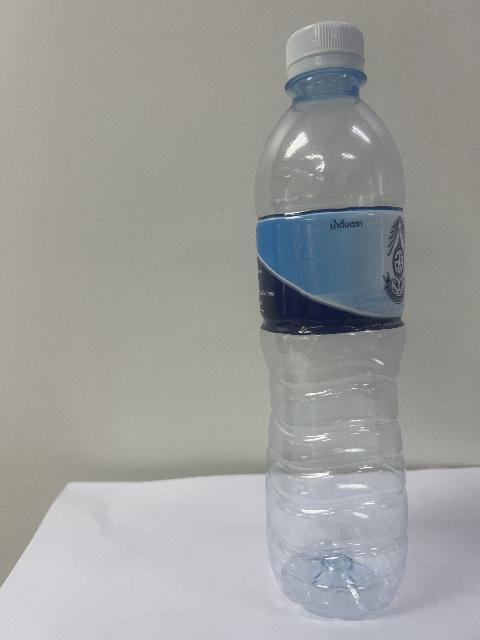bottle: (256, 22, 407, 619)
